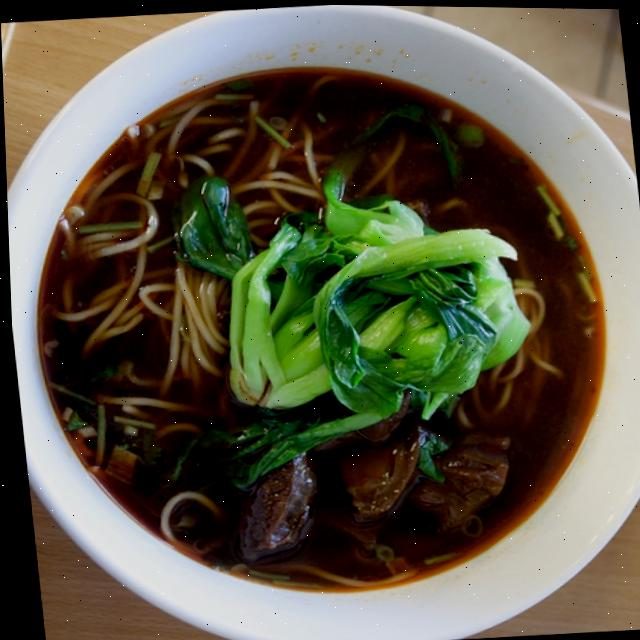面条主食: (0, 13, 640, 638)
